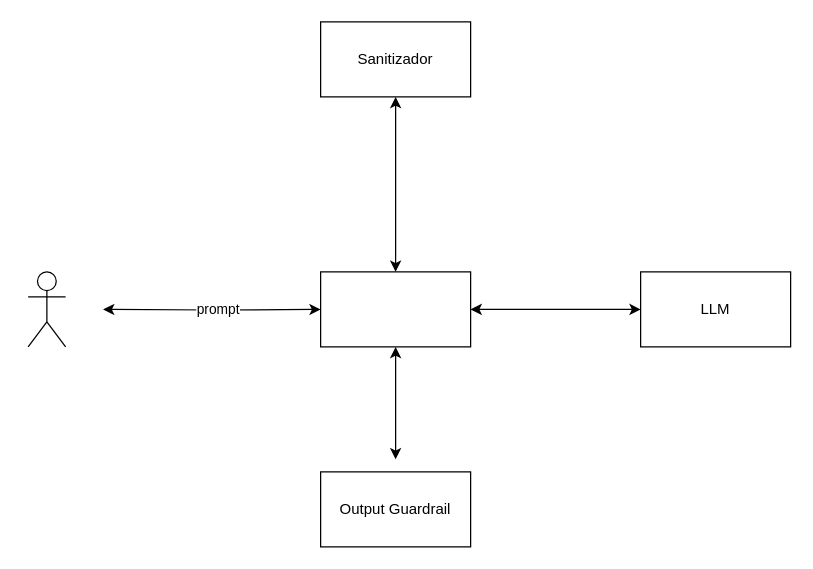
Some shapes in this 813 by 569 pixel diagram are drawn without their labels. The centre of each missing label's shape, as x and y in pixels:
Orquestrador: the point at 395,309
Usuário: the point at 46,309
